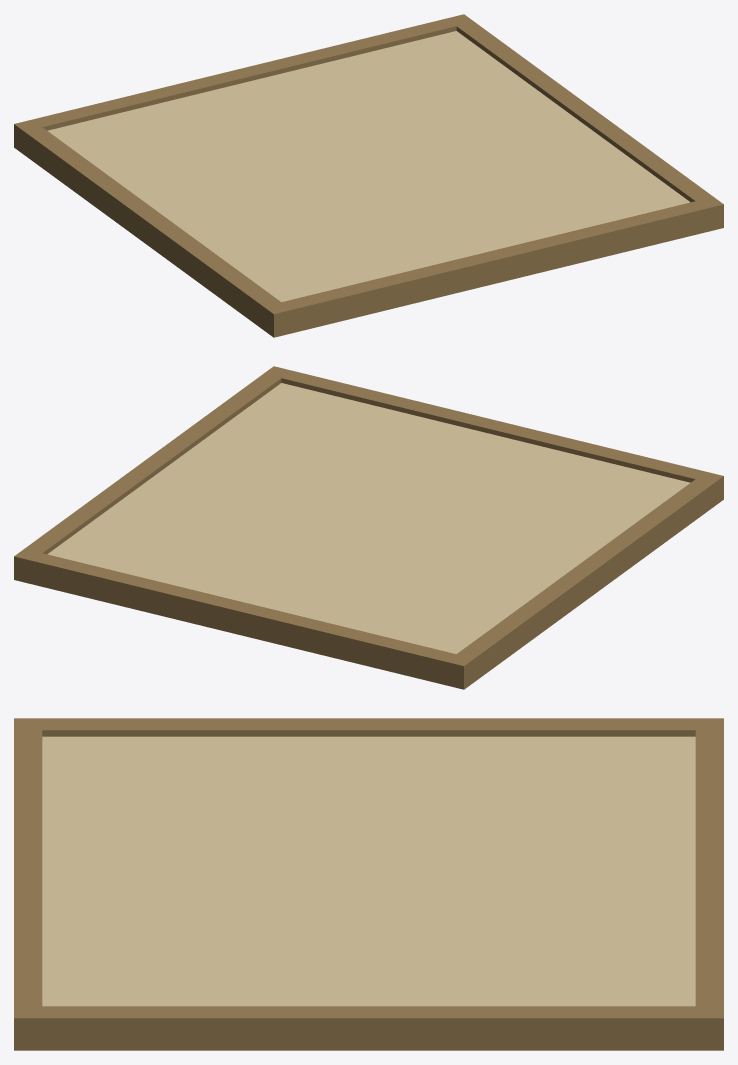
Rendered from board_square.glb.
The picture shows the model from 3 angles, top to bottom: view 1: azimuth 30°, elevation 25°; view 2: azimuth 150°, elevation 25°; view 3: azimuth 270°, elevation 25°; orthographic projection. The views are drawn at different scales.
Visible parts, largest first — view 1: board_square; view 2: board_square; view 3: board_square.
Boxes of the visible parts, x1,y1,x2,y2 form: board_square: [14, 14, 723, 337]; board_square: [14, 366, 723, 689]; board_square: [14, 718, 723, 1050].
Size of the model in its own units: 1 by 0.05 by 1.
